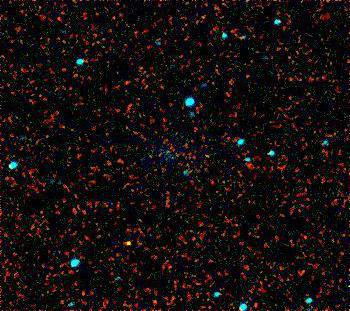star: (112, 229, 142, 259)
